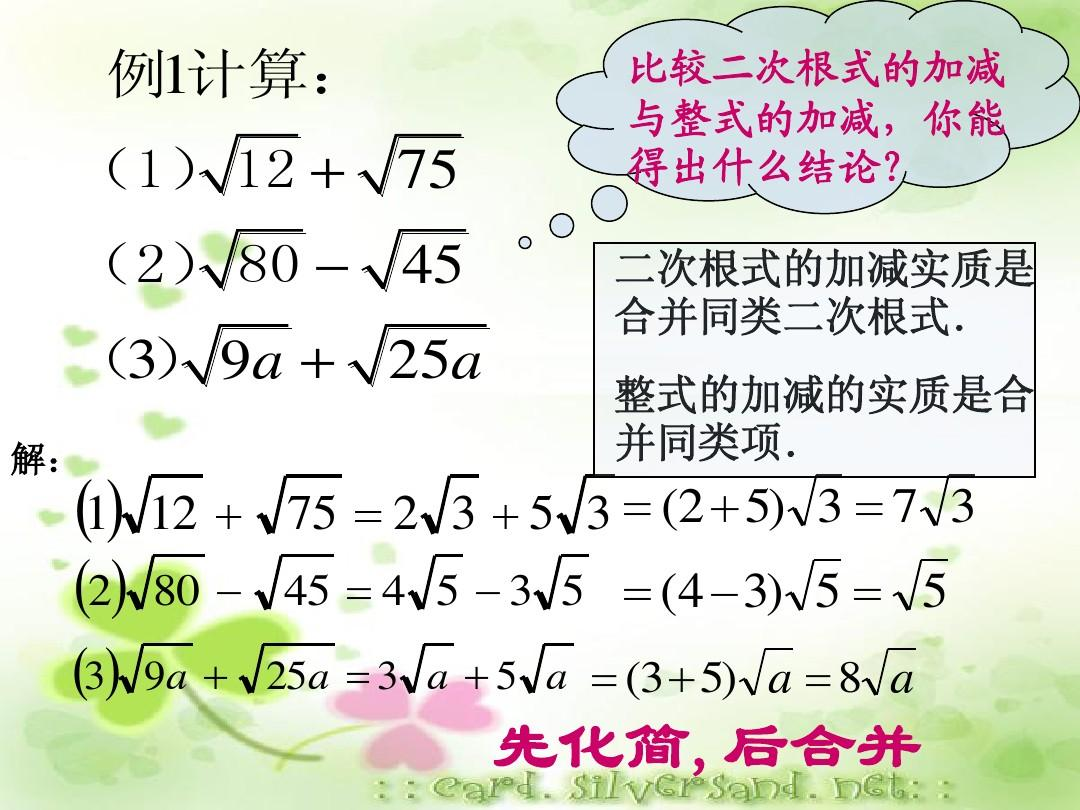sqrt: (346, 316, 491, 393), (178, 318, 297, 395), (355, 127, 471, 196), (199, 226, 310, 294), (207, 127, 304, 204), (362, 224, 470, 290), (120, 468, 213, 540), (258, 470, 344, 538), (255, 549, 342, 615), (129, 548, 214, 615), (244, 639, 339, 695), (123, 637, 193, 697), (425, 469, 484, 539), (397, 634, 459, 700), (788, 469, 852, 531), (920, 469, 986, 529), (561, 468, 616, 536), (536, 547, 590, 615), (789, 552, 847, 614), (413, 552, 470, 613), (520, 637, 578, 694), (897, 553, 951, 613), (865, 641, 915, 705), (744, 645, 794, 702)
